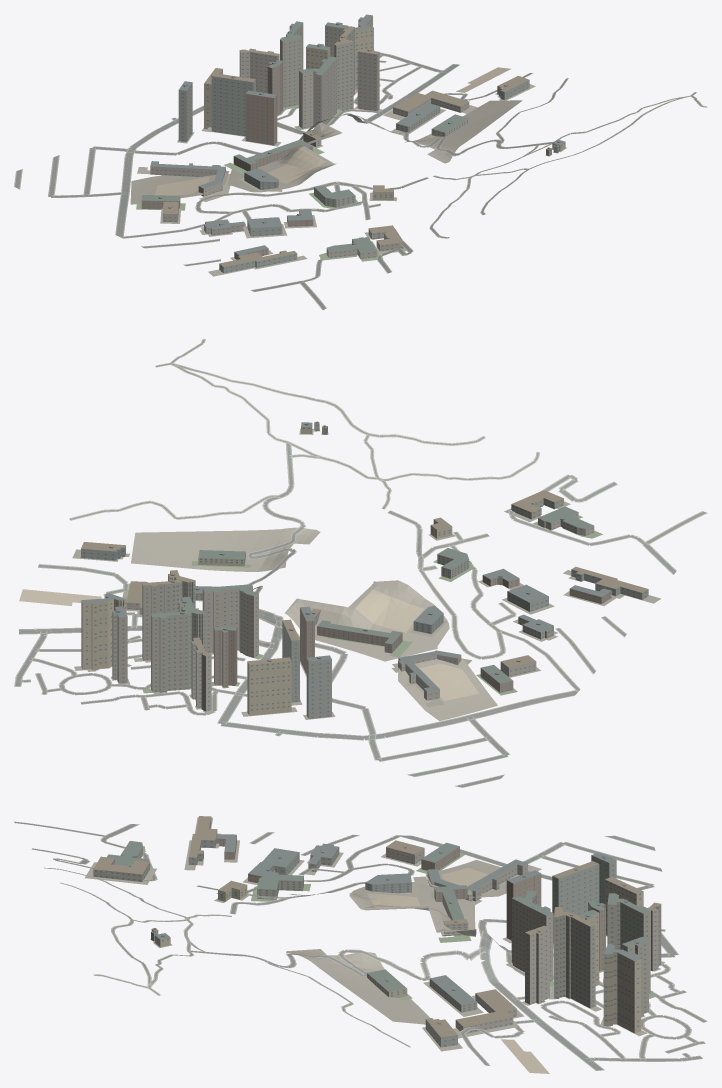
The picture shows the model from 3 angles, top to bottom: view 1: azimuth 30°, elevation 25°; view 2: azimuth 150°, elevation 25°; view 3: azimuth 270°, elevation 25°; orthographic projection. The views are drawn at different scales.
Parts seen in each view (by area): view 1: context-osm-buildings, context-building-plinths, context-osm-sidewalks, context-osm-roads; view 2: context-osm-buildings, context-building-plinths, context-osm-sidewalks, context-osm-roads; view 3: context-osm-buildings, context-building-plinths, context-osm-sidewalks, context-osm-roads.
Part boxes in pixels (box(x1,y1,x2,y2)): context-osm-buildings: box(141, 14, 565, 273); context-building-plinths: box(130, 67, 566, 276); context-osm-sidewalks: box(14, 52, 707, 310); context-osm-roads: box(15, 53, 706, 309); context-osm-buildings: box(81, 421, 648, 718); context-building-plinths: box(19, 428, 660, 720); context-osm-sidewalks: box(14, 339, 707, 787); context-osm-roads: box(15, 339, 706, 787); context-osm-buildings: box(93, 816, 661, 1047); context-building-plinths: box(85, 817, 664, 1073); context-osm-sidewalks: box(14, 821, 707, 1070); context-osm-roads: box(14, 822, 706, 1070).
Bounding box in the file's own units: 782 × 181 × 777.
